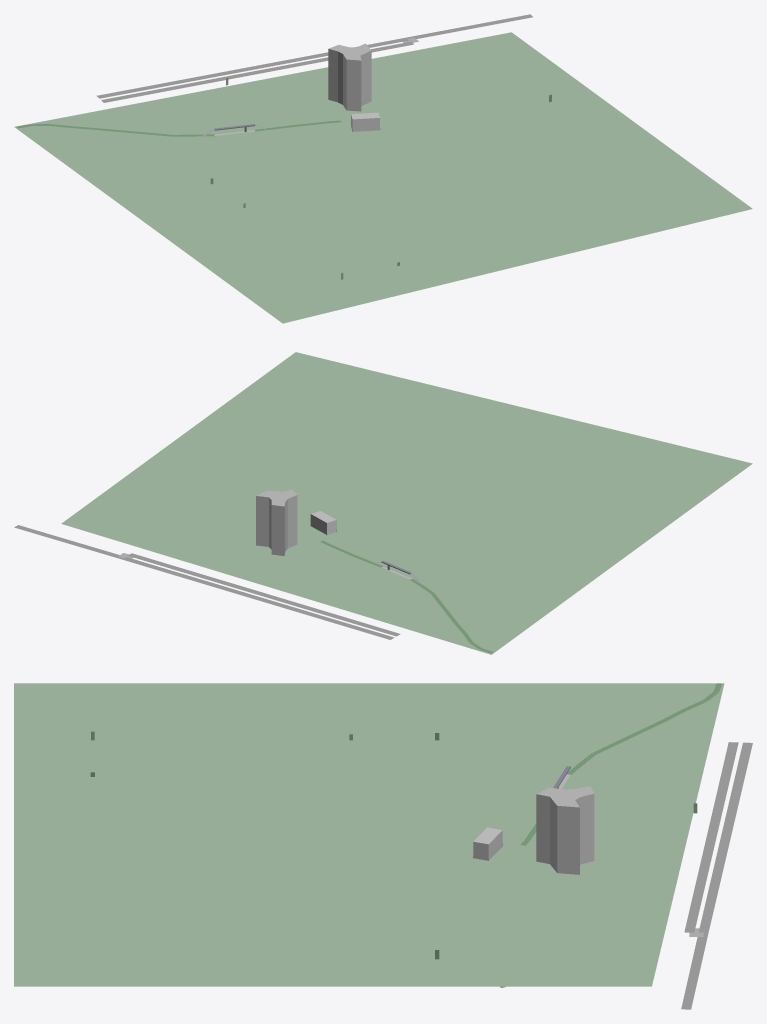
The picture shows the model from 3 angles, top to bottom: view 1: azimuth 30°, elevation 25°; view 2: azimuth 150°, elevation 25°; view 3: azimuth 270°, elevation 25°; orthographic projection. The views are drawn at different scales.
Bounding box in the file's own units: 536 × 52.96 × 515.
